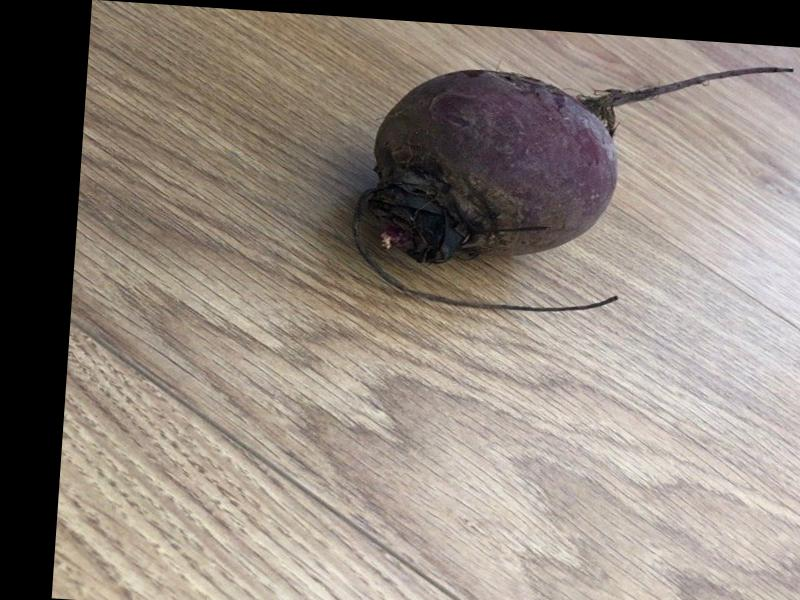Beet: (351, 39, 794, 328)
